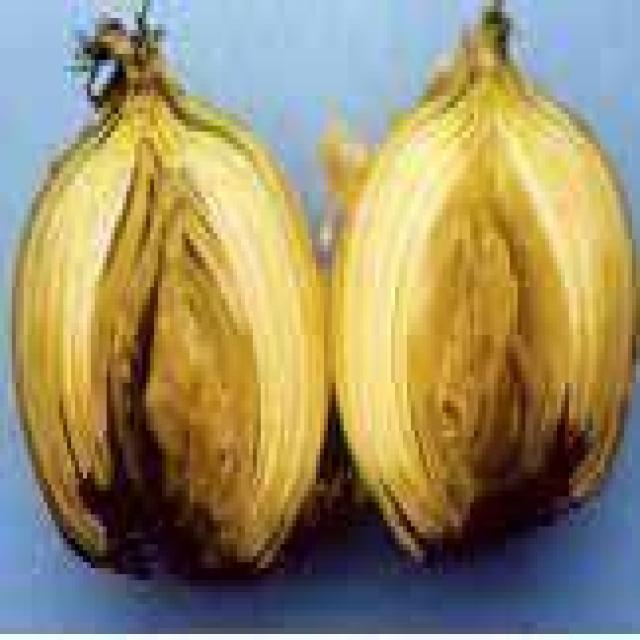Onion: (8, 0, 328, 586), (328, 0, 640, 568)
